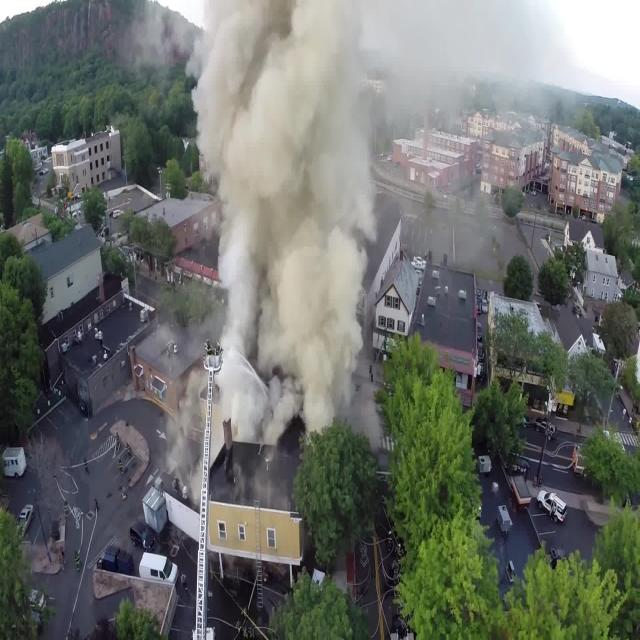Smoke: (224, 45, 349, 413)
